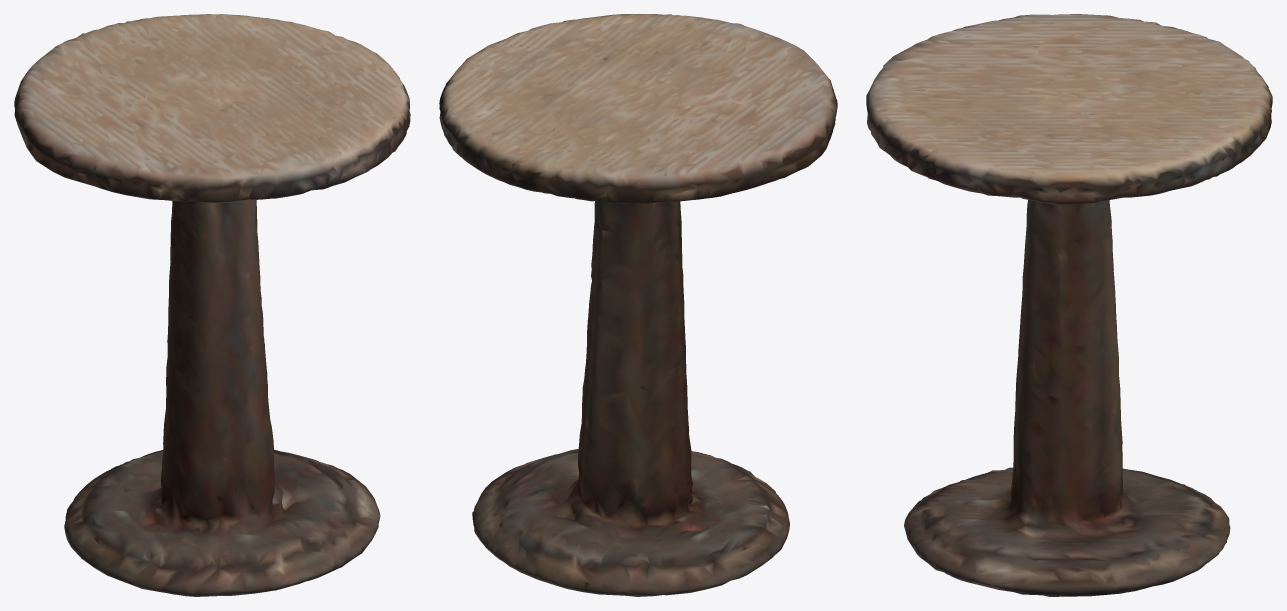
The picture shows the model from 3 angles, left to right: view 1: azimuth 30°, elevation 25°; view 2: azimuth 150°, elevation 25°; view 3: azimuth 270°, elevation 25°; orthographic projection.
Visible parts, largest first — view 1: geometry_0; view 2: geometry_0; view 3: geometry_0.
Boxes of the visible parts, left/top/right/bottom form: geometry_0: left=14, top=14, right=410, bottom=596; geometry_0: left=439, top=14, right=837, bottom=596; geometry_0: left=866, top=14, right=1272, bottom=596.
Size of the model in its own units: 0.4878 by 0.6 by 0.4908.
